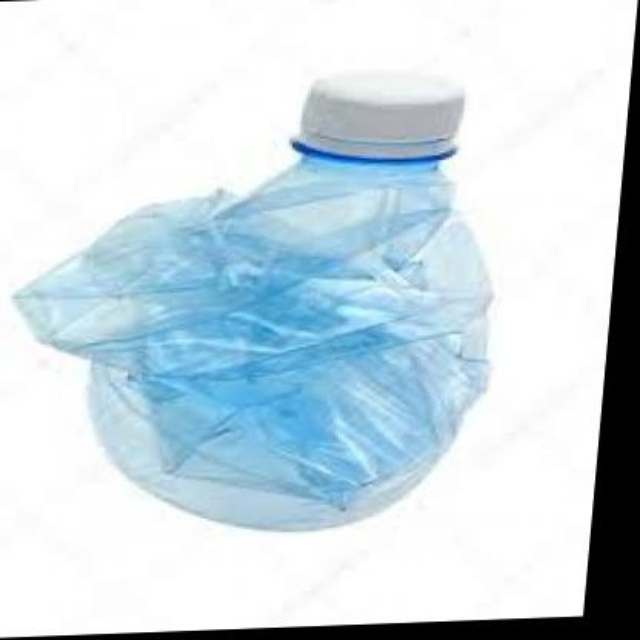trash: (14, 75, 491, 529)
